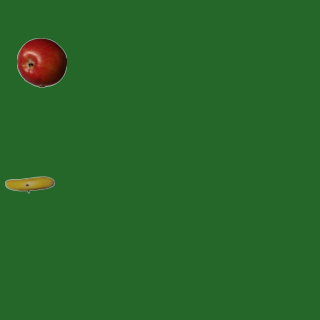Apple Braeburn: (16, 37, 66, 87)
Banana: (4, 159, 54, 209)
